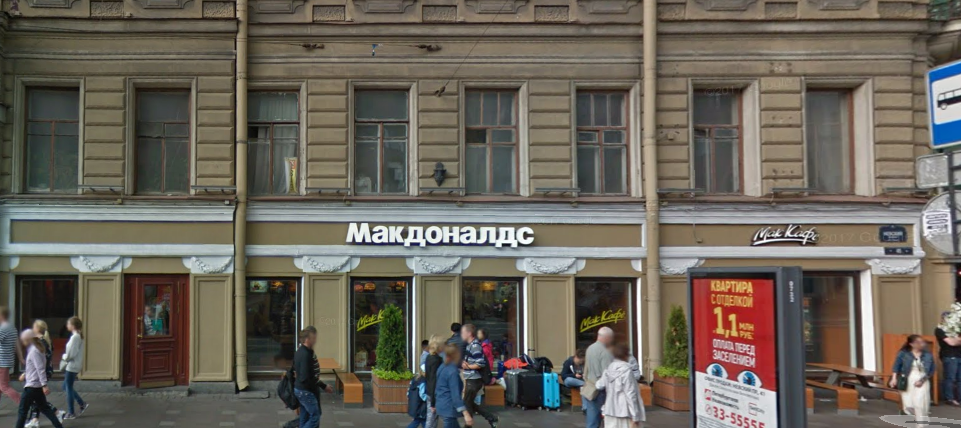door: (124, 272, 190, 386)
signboard: (342, 215, 538, 253), (754, 217, 825, 250)
window: (18, 80, 78, 197), (689, 86, 751, 199), (349, 81, 409, 194), (573, 85, 631, 201), (134, 84, 192, 197), (463, 86, 520, 197), (350, 273, 410, 378), (242, 90, 301, 194), (805, 84, 857, 195), (242, 275, 295, 379), (577, 277, 631, 361), (465, 276, 519, 359)
